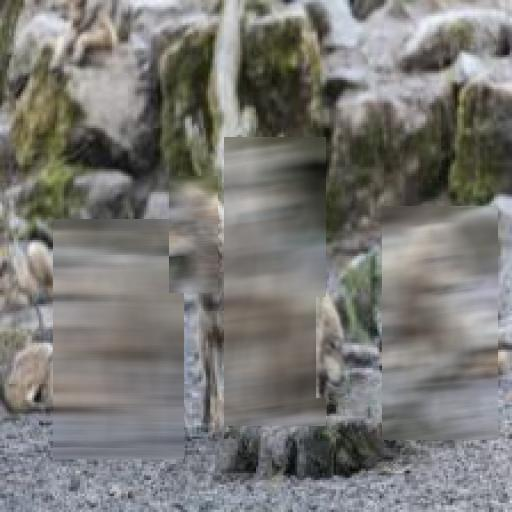wolf: (53, 220, 184, 460), (224, 137, 326, 426), (382, 206, 498, 440), (169, 176, 218, 293), (316, 297, 346, 398)
